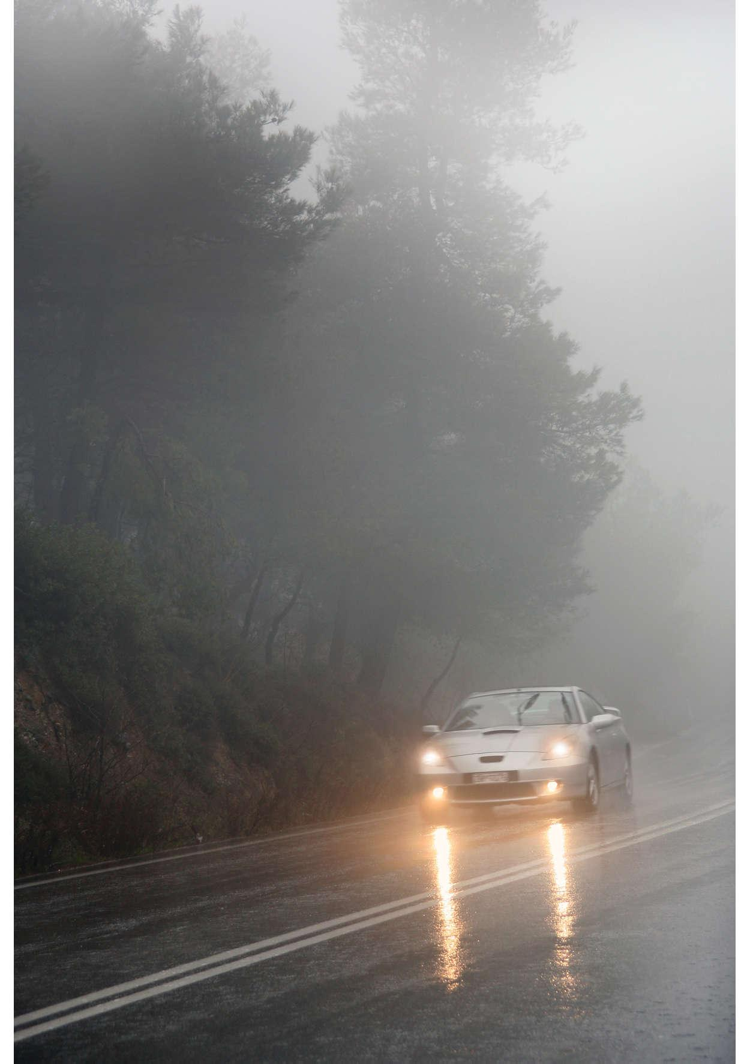car: (255, 678, 556, 823), (412, 682, 631, 810), (327, 688, 434, 805), (409, 690, 533, 789), (408, 723, 513, 817), (364, 715, 436, 800), (401, 719, 455, 817), (414, 743, 450, 823), (395, 720, 441, 777), (411, 721, 445, 793), (411, 721, 439, 763), (419, 782, 448, 819)
cell phone: (412, 683, 633, 811)
person: (318, 645, 383, 780), (323, 644, 375, 721), (411, 723, 447, 808), (445, 696, 518, 730), (523, 695, 564, 723), (482, 702, 514, 726), (543, 696, 568, 721), (515, 693, 538, 719)
truck: (410, 679, 630, 810)
